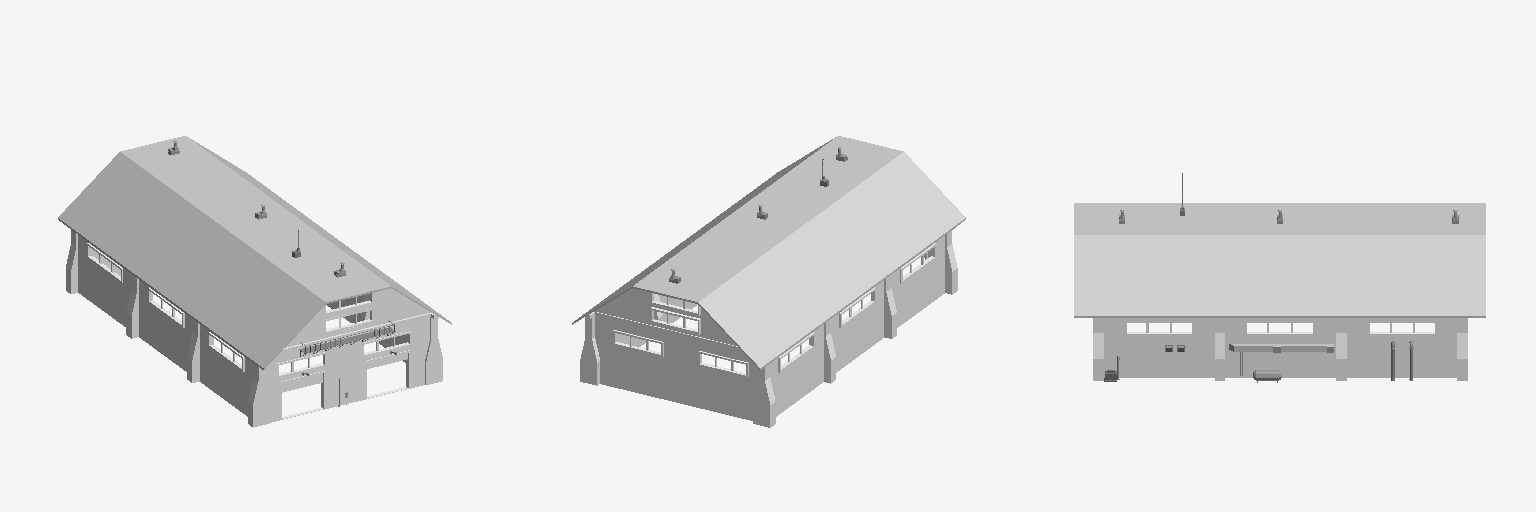
File: ind6_hall2.obj
3 renders of one model, left to right at view 1: azimuth 30°, elevation 25°; view 2: azimuth 150°, elevation 25°; view 3: azimuth 270°, elevation 25°, orthographic.
Visible parts, largest first — view 1: Building; view 2: Building; view 3: Building.
Boxes of the visible parts, box(x1,y1,x2,y2) form: Building: box(58, 136, 451, 427); Building: box(572, 136, 965, 427); Building: box(1074, 173, 1485, 382).
Size of the model in its own units: 23.49 by 18.81 by 43.5.